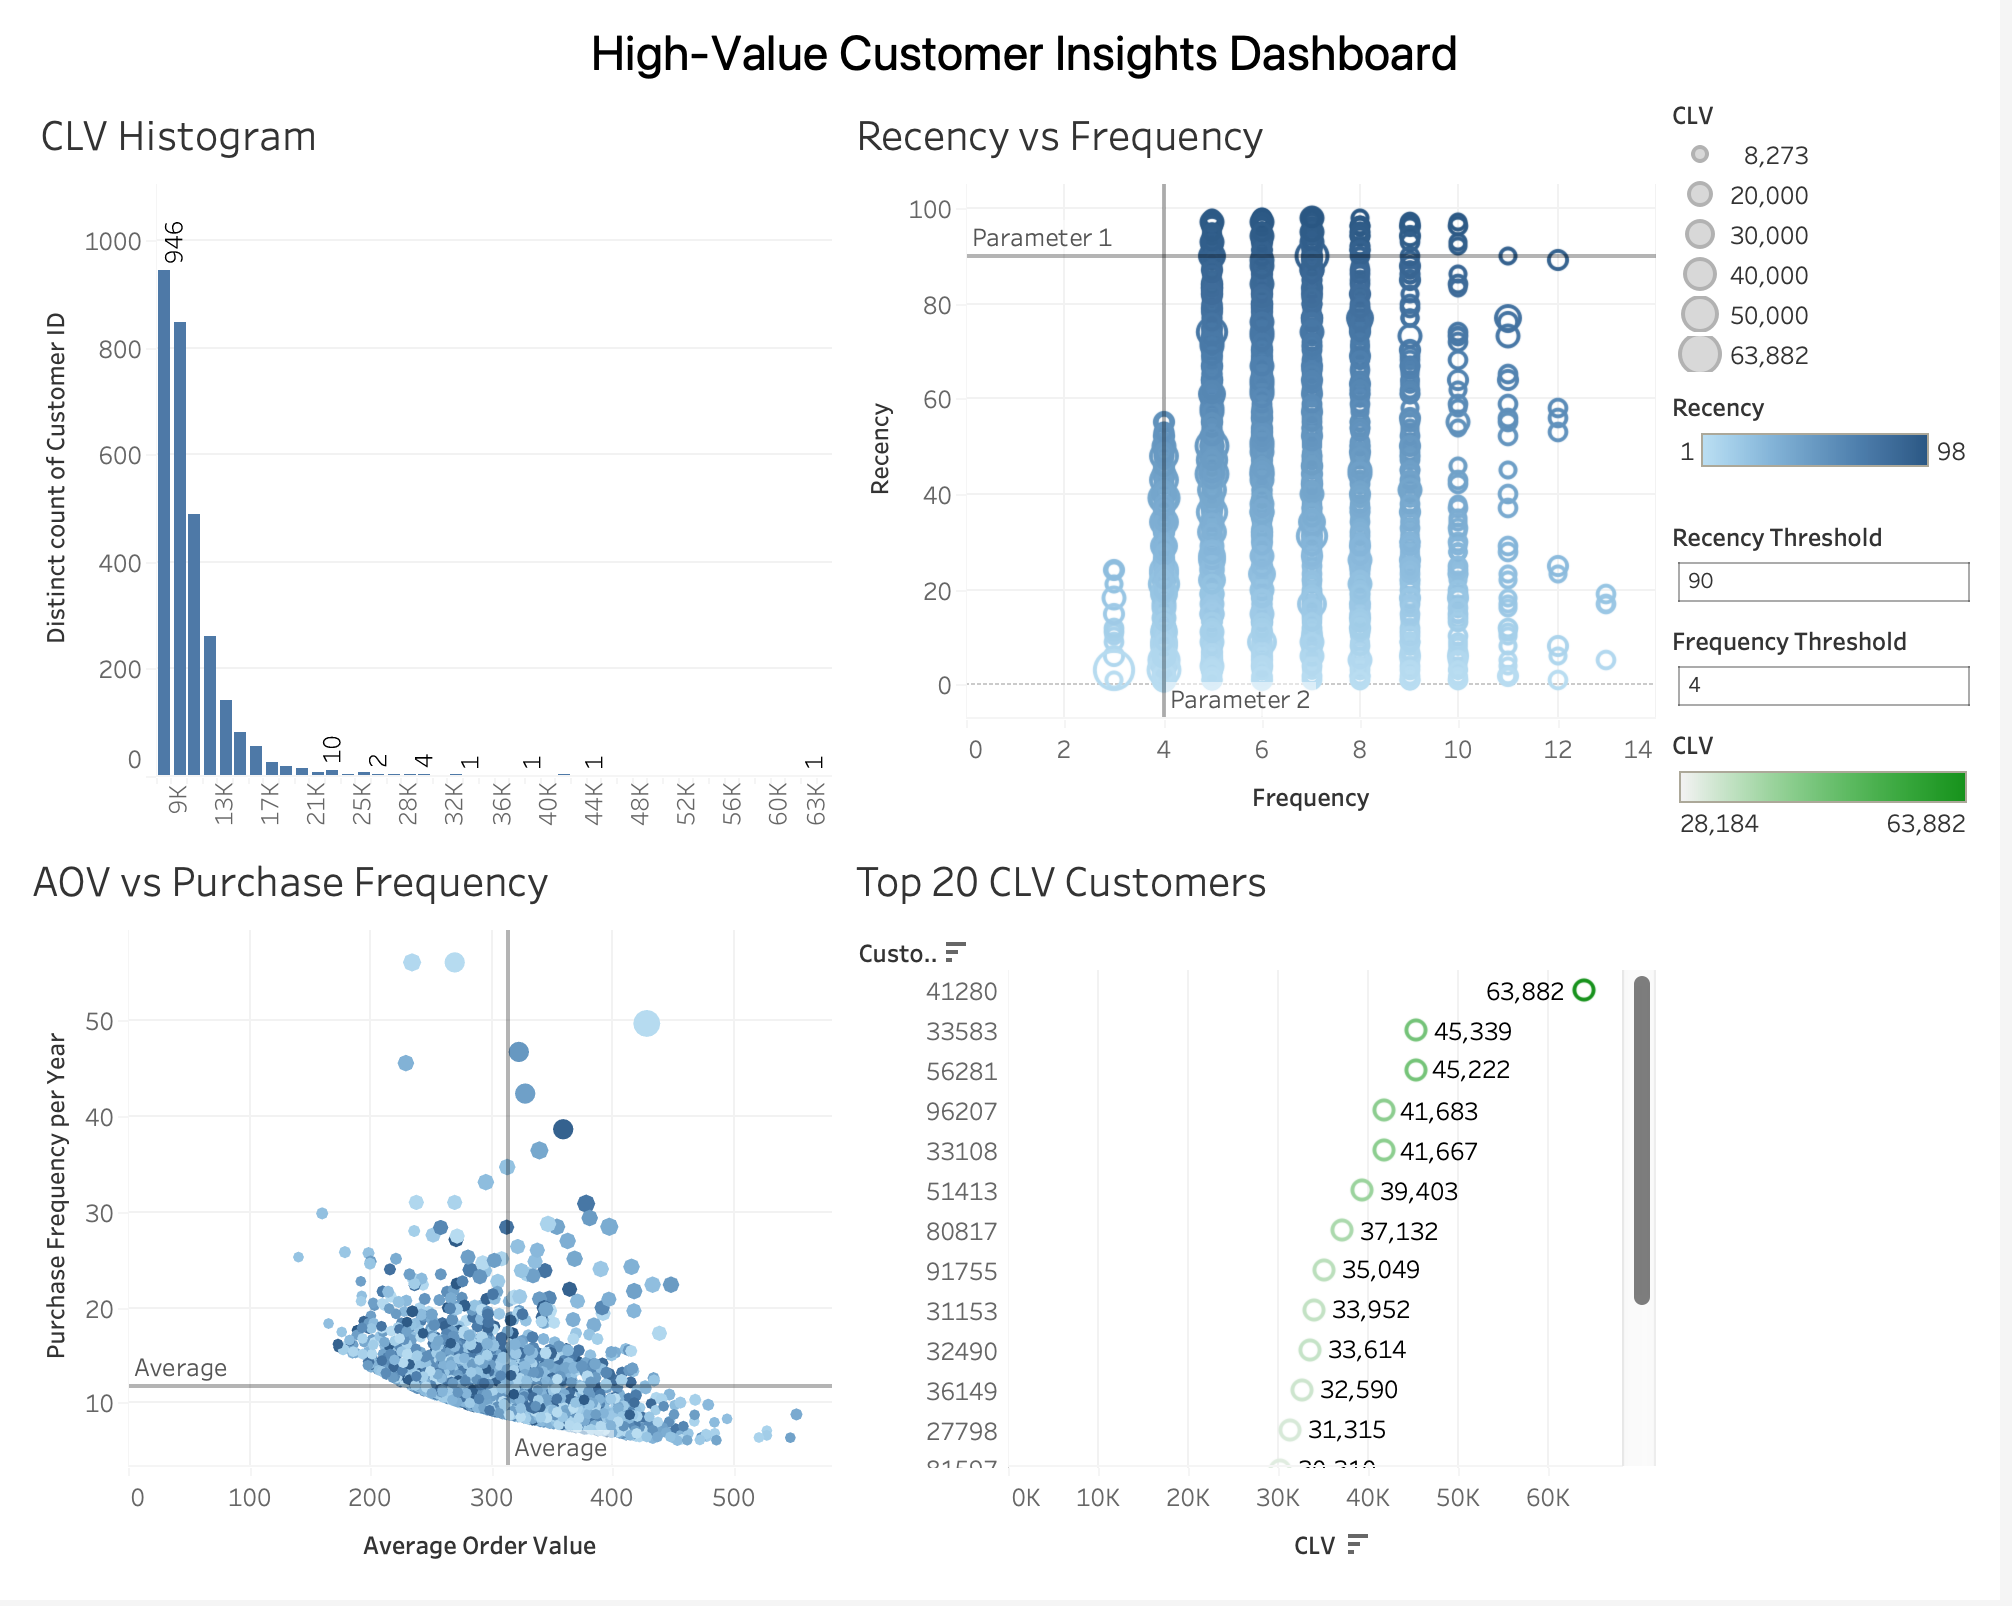

Layout of this report page (visuals, bound fields, positions):
{"tool":"tableau","page":{"name":"Dashboard 1","canvas":[1000,800],"ordinal":0},"visuals":[{"type":"title","box":[8,8,984,37]},{"type":"worksheet","title":" CLV Histogram","mark":"Automatic","rows":["Customer_ID"],"cols":["CLV (bin) 3"],"box":[8,45,412,373.5]},{"type":"worksheet","title":"Recency vs Frequency","mark":"Automatic","rows":["Recency"],"cols":["Frequency"],"box":[420,45,412,373.5]},{"type":"legend","title":"Recency vs Frequency","param":"[federated.1ul93m91dtrncq1fpnzrv0sh05g0].[sum:CLV:qk]","box":[832,45,160,146]},{"type":"legend","title":"Recency vs Frequency","param":"[federated.1ul93m91dtrncq1fpnzrv0sh05g0].[sum:Recency:qk]","box":[832,191,160,65]},{"type":"parameter","param":"[Parameters].[Parameter 1]","box":[832,256,160,52]},{"type":"parameter","param":"[Parameters].[Parameter 2]","box":[832,308,160,52]},{"type":"legend","title":"Top N CLV Customers","param":"[federated.1ul93m91dtrncq1fpnzrv0sh05g0].[sum:CLV:qk]","box":[832,360,160,65]},{"type":"worksheet","title":"AOV vs Purchase Frequency","mark":"Automatic","rows":["Purchase_Frequency_per_Year"],"cols":["Average_Order_Value"],"box":[8,418.5,412,373.5]},{"type":"worksheet","title":"Top N CLV Customers","mark":"Automatic","rows":["Customer_ID"],"cols":["CLV"],"box":[420,418.5,412,373.5]}]}

Visuals, with their boxes in screenshot pixels (x1, y1, x2, y2), scaled from the page's 1000x800 canvas onto the 2012x1606 screenshot:
title: {"x1": 16, "y1": 16, "x2": 1996, "y2": 90}
" CLV Histogram" worksheet: {"x1": 16, "y1": 90, "x2": 845, "y2": 840}
"Recency vs Frequency" worksheet: {"x1": 845, "y1": 90, "x2": 1674, "y2": 840}
"Recency vs Frequency" legend: {"x1": 1674, "y1": 90, "x2": 1996, "y2": 383}
"Recency vs Frequency" legend: {"x1": 1674, "y1": 383, "x2": 1996, "y2": 514}
parameter: {"x1": 1674, "y1": 514, "x2": 1996, "y2": 618}
parameter: {"x1": 1674, "y1": 618, "x2": 1996, "y2": 723}
"Top N CLV Customers" legend: {"x1": 1674, "y1": 723, "x2": 1996, "y2": 853}
"AOV vs Purchase Frequency" worksheet: {"x1": 16, "y1": 840, "x2": 845, "y2": 1590}
"Top N CLV Customers" worksheet: {"x1": 845, "y1": 840, "x2": 1674, "y2": 1590}
